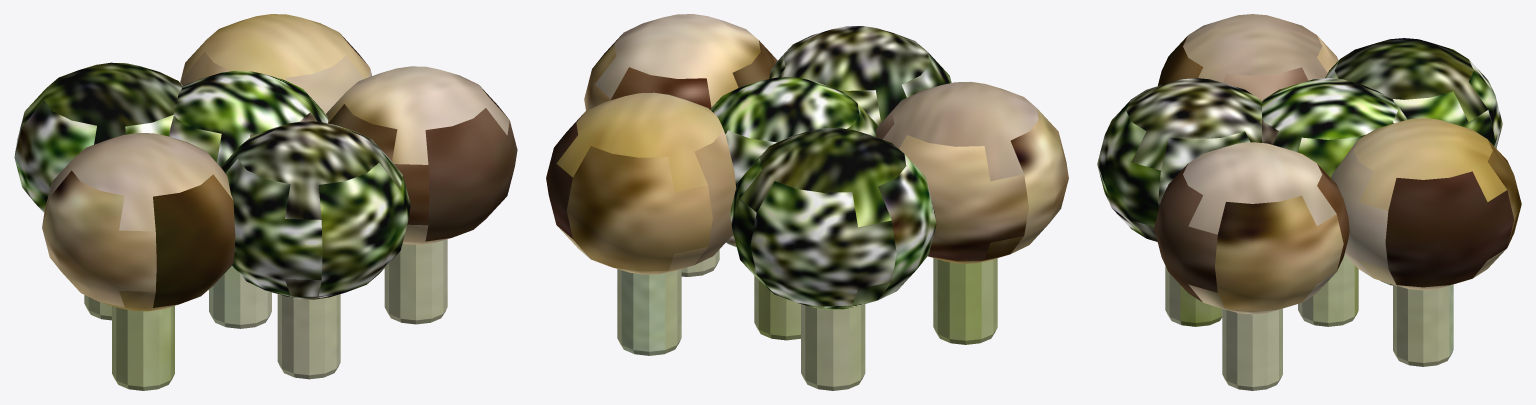
File: Food_brokoli.fbx
The picture shows the model from 3 angles, left to right: view 1: azimuth 30°, elevation 25°; view 2: azimuth 150°, elevation 25°; view 3: azimuth 270°, elevation 25°; orthographic projection. The views are drawn at different scales.
Visible parts, largest first — view 1: Food_brokoli; view 2: Food_brokoli; view 3: Food_brokoli.
Boxes of the visible parts, x1=… form: Food_brokoli: x1=14, y1=14, x2=517, y2=390; Food_brokoli: x1=546, y1=14, x2=1068, y2=390; Food_brokoli: x1=1097, y1=14, x2=1521, y2=390.
Bounding box in the file's own units: 0.132 × 0.0666 × 0.112.
